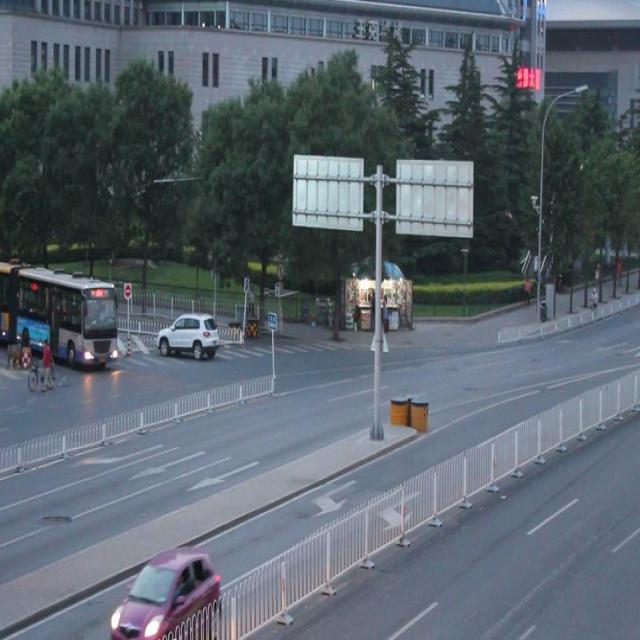car: (112, 546, 220, 640), (157, 309, 219, 364)
van: (1, 258, 118, 368)
